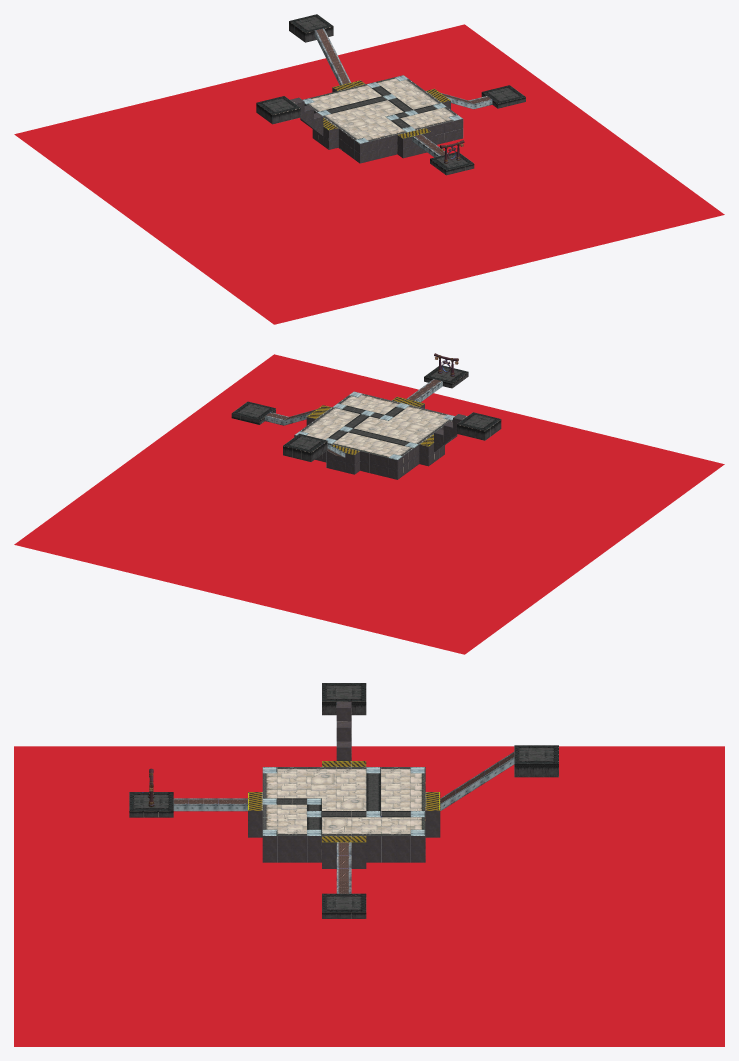
The model's file is test-zone2.glb.
3 views of the same model, one above another, from view 1: azimuth 30°, elevation 25°; view 2: azimuth 150°, elevation 25°; view 3: azimuth 270°, elevation 25° (orthographic). The views are drawn at different scales.
Visible parts, largest first — view 1: DeathPlane, Frame_0.015; view 2: DeathPlane, Frame_0.015; view 3: DeathPlane, Frame_0.015.
Part boxes in pixels (x1,y1,x2,y2): DeathPlane: [14, 24, 724, 324]; Frame_0.015: [256, 14, 525, 175]; DeathPlane: [14, 354, 724, 654]; Frame_0.015: [231, 365, 501, 479]; DeathPlane: [14, 746, 724, 1046]; Frame_0.015: [129, 683, 558, 918].
Size of what is drawn, in the model's own units: 240 by 53.69 by 240.
Materials: 13 (12 with a texture image).
